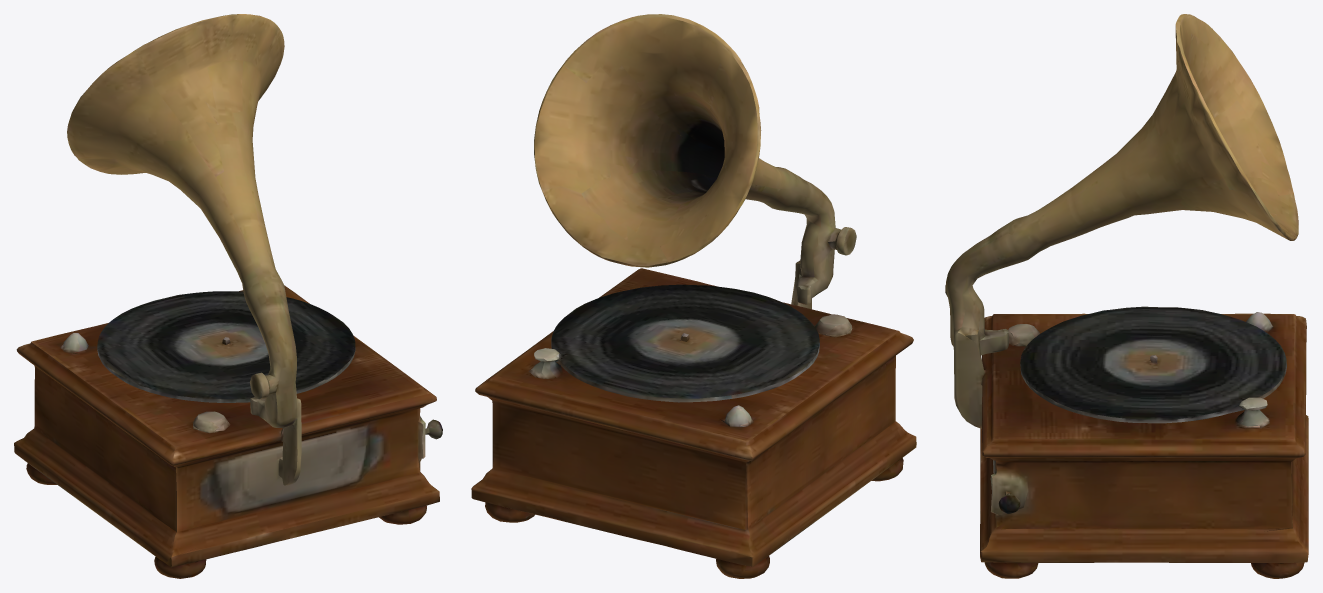
Rendered from record.glb.
The picture shows the model from 3 angles, left to right: view 1: azimuth 30°, elevation 25°; view 2: azimuth 150°, elevation 25°; view 3: azimuth 270°, elevation 25°; orthographic projection. The views are drawn at different scales.
Parts seen in each view (by area): view 1: record; view 2: record; view 3: record.
Boxes of the visible parts, x1,y1,x2,y2 form: record: (14,14,442,578); record: (471,14,916,578); record: (945,14,1308,578).
Bounding box in the file's own units: 0.4763 × 0.75 × 0.5071.
1 material, 1 textured.
